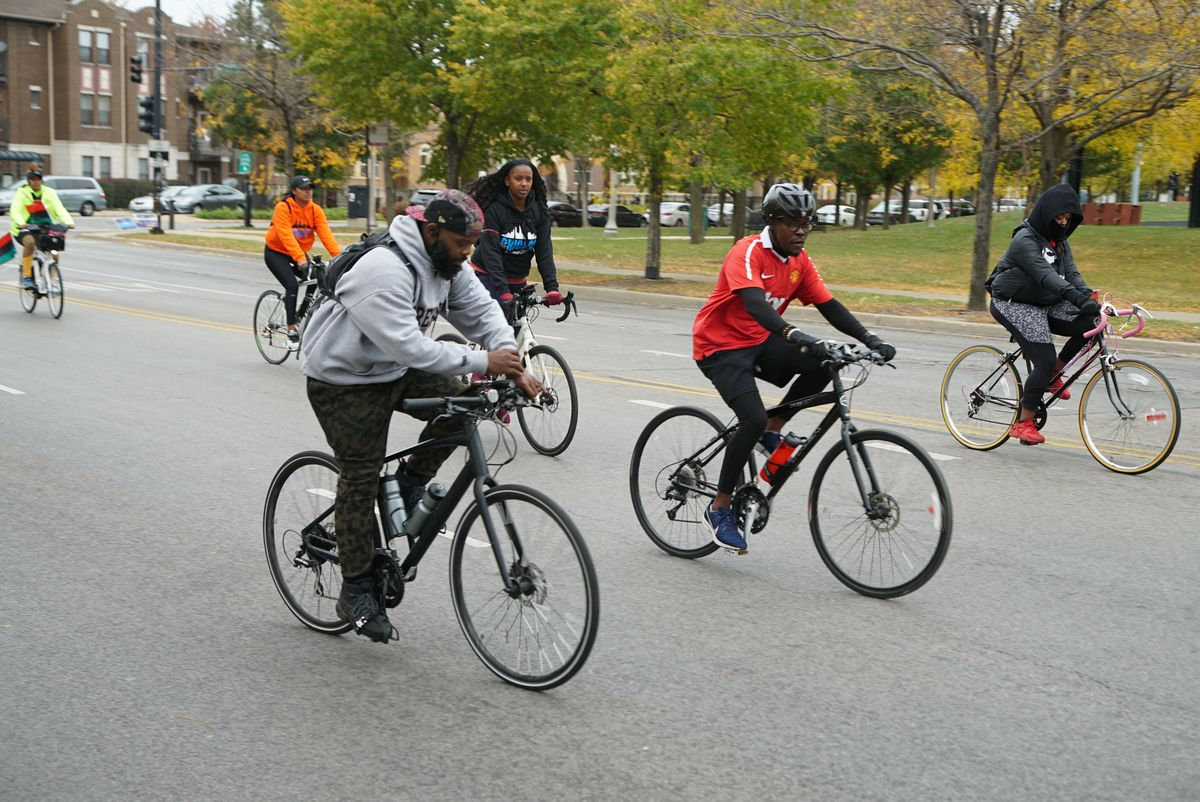person: (316, 200, 544, 638), (694, 210, 894, 550), (989, 183, 1114, 442), (482, 158, 564, 327), (263, 174, 322, 339)
